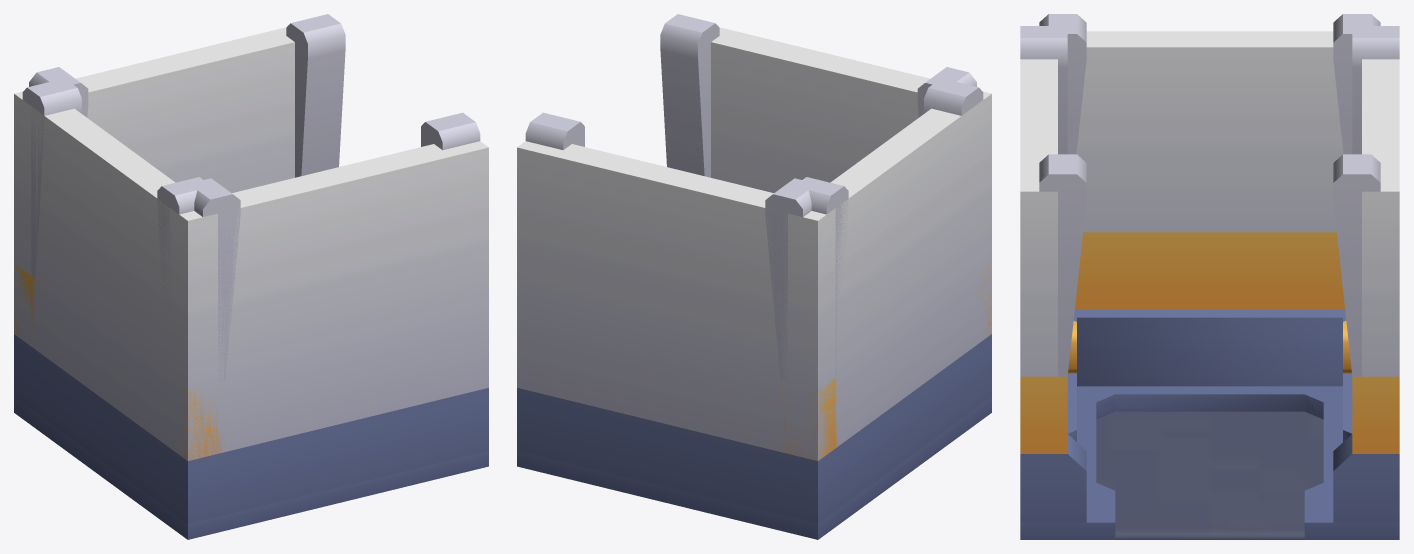
Rendered from corridor-end.glb.
The picture shows the model from 3 angles, left to right: view 1: azimuth 30°, elevation 25°; view 2: azimuth 150°, elevation 25°; view 3: azimuth 270°, elevation 25°; orthographic projection. The views are drawn at different scales.
Parts seen in each view (by area): view 1: corridor-end; view 2: corridor-end; view 3: corridor-end.
Part boxes in pixels (left/top/right/bottom): corridor-end: left=14, top=14, right=488, bottom=539; corridor-end: left=517, top=14, right=991, bottom=539; corridor-end: left=1020, top=14, right=1399, bottom=539.
Bounding box in the file's own units: 4 × 4.25 × 4.
1 material, 1 textured.
